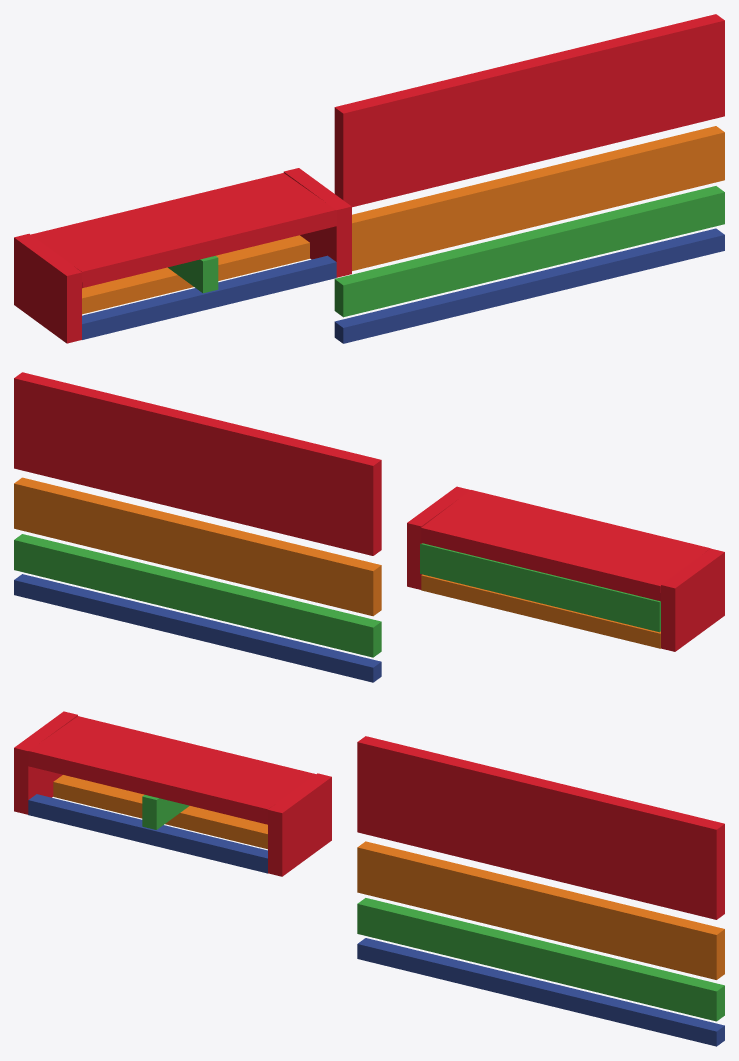
The model's file is tinker.obj.
3 views of the same model, one above another, from view 1: azimuth 30°, elevation 25°; view 2: azimuth 150°, elevation 25°; view 3: azimuth 330°, elevation 25° (orthographic). The views are drawn at different scales.
Visible parts, largest first — view 1: obj_3, obj_2, obj_4, obj_1, obj_0, obj_10, obj_5, obj_6, obj_8, obj_9; view 2: obj_3, obj_2, obj_4, obj_1, obj_0, obj_7, obj_5, obj_6, obj_8; view 3: obj_3, obj_2, obj_4, obj_1, obj_0, obj_10, obj_8, obj_6, obj_5, obj_9.
Boxes of the visible parts, x1=… form: obj_3: x1=334, y1=14, x2=724, y2=207; obj_2: x1=352, y1=126, x2=724, y2=270; obj_4: x1=31, y1=173, x2=336, y2=288; obj_1: x1=334, y1=186, x2=724, y2=317; obj_0: x1=334, y1=228, x2=724, y2=343; obj_10: x1=82, y1=255, x2=336, y2=339; obj_5: x1=14, y1=233, x2=81, y2=343; obj_6: x1=82, y1=235, x2=309, y2=314; obj_8: x1=283, y1=168, x2=351, y2=277; obj_9: x1=168, y1=256, x2=218, y2=293; obj_3: x1=14, y1=372, x2=381, y2=555; obj_2: x1=14, y1=477, x2=381, y2=616; obj_4: x1=421, y1=490, x2=710, y2=601; obj_1: x1=14, y1=534, x2=381, y2=657; obj_0: x1=14, y1=574, x2=381, y2=682; obj_7: x1=420, y1=543, x2=660, y2=632; obj_5: x1=661, y1=548, x2=724, y2=651; obj_6: x1=421, y1=574, x2=660, y2=648; obj_8: x1=407, y1=486, x2=469, y2=589; obj_3: x1=357, y1=736, x2=724, y2=919; obj_2: x1=357, y1=841, x2=724, y2=979; obj_4: x1=28, y1=716, x2=315, y2=824; obj_1: x1=357, y1=898, x2=724, y2=1021; obj_0: x1=357, y1=938, x2=724, y2=1046; obj_10: x1=28, y1=794, x2=267, y2=873; obj_8: x1=268, y1=773, x2=331, y2=876; obj_6: x1=53, y1=775, x2=267, y2=849; obj_5: x1=14, y1=711, x2=77, y2=814; obj_9: x1=142, y1=795, x2=189, y2=829.
Bounding box in the file's own units: 552 × 173 × 72.2.
